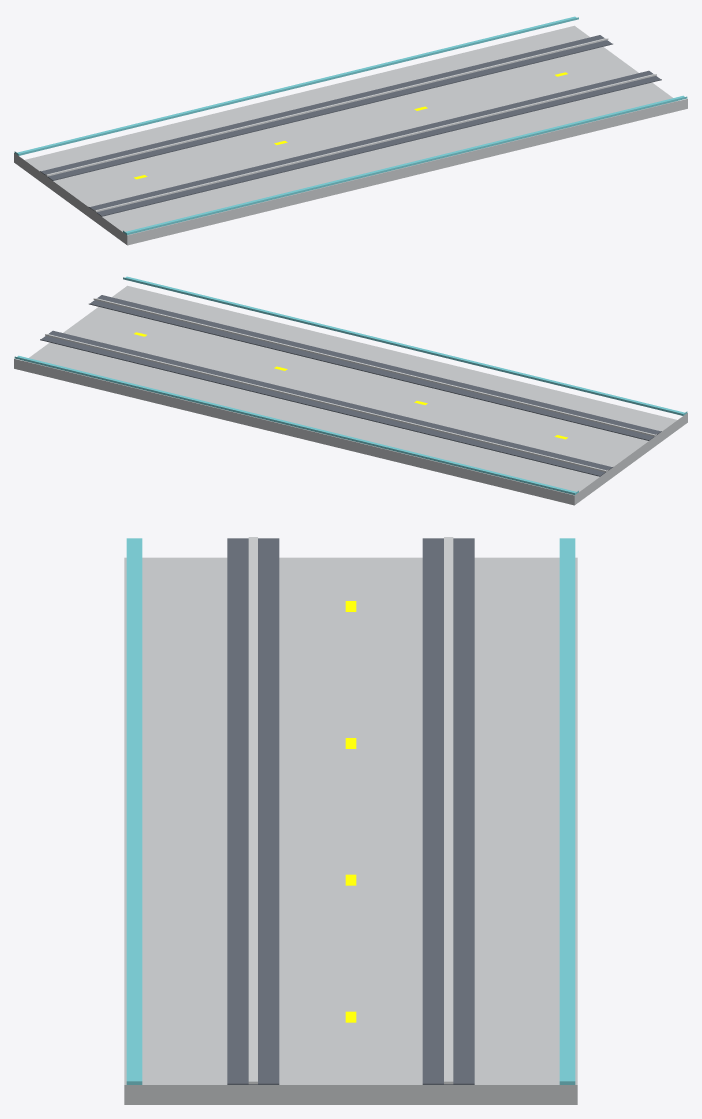
Rendered from ext_tram_rail_module_03.glb.
3 renders of one model, top to bottom at view 1: azimuth 30°, elevation 25°; view 2: azimuth 150°, elevation 25°; view 3: azimuth 270°, elevation 25°, orthographic. The views are drawn at different scales.
Parts seen in each view (by area): view 1: Bed, Rail_Strips, Edge_Kerbs, Rails; view 2: Bed, Rail_Strips, Edge_Kerbs, Rails; view 3: Bed, Rail_Strips, Edge_Kerbs, Rails.
Part boxes in pixels (bbox=[...]): Bed: bbox=[14, 25, 687, 245]; Rail_Strips: bbox=[40, 35, 661, 216]; Edge_Kerbs: bbox=[14, 16, 687, 234]; Rails: bbox=[45, 38, 656, 212]; Bed: bbox=[14, 285, 687, 505]; Rail_Strips: bbox=[40, 295, 661, 476]; Edge_Kerbs: bbox=[14, 276, 687, 494]; Rails: bbox=[45, 298, 656, 472]; Bed: bbox=[124, 557, 577, 1104]; Rail_Strips: bbox=[227, 538, 474, 1084]; Edge_Kerbs: bbox=[126, 538, 575, 1084]; Rails: bbox=[248, 537, 453, 1084].
Size of the model in its own units: 9.99 by 0.2 by 3.5.
